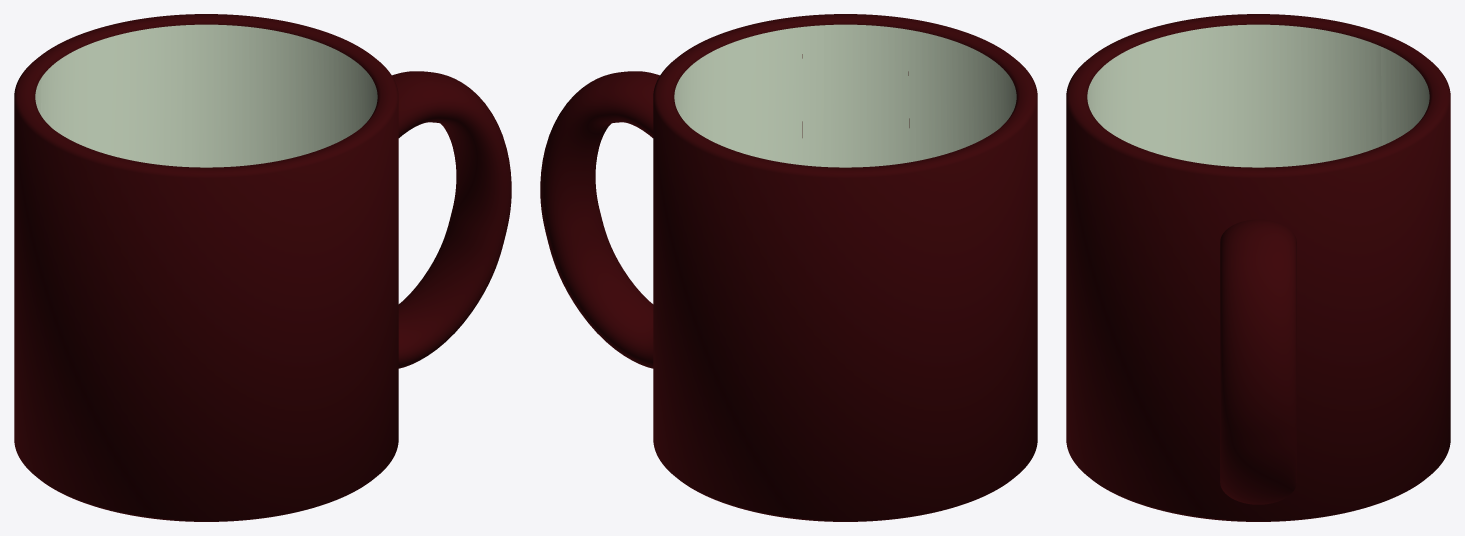
Rendered from mug.obj.
3 views of the same model, side by side, from view 1: azimuth 30°, elevation 25°; view 2: azimuth 150°, elevation 25°; view 3: azimuth 270°, elevation 25° (orthographic).
Parts seen in each view (by area): view 1: Cylinder_Cylinder.001, NurbsCircle; view 2: Cylinder_Cylinder.001, NurbsCircle; view 3: Cylinder_Cylinder.001, NurbsCircle.
Part boxes in pixels (<box>): Cylinder_Cylinder.001: <box>14,14,398,521</box>; NurbsCircle: <box>392,71,511,368</box>; Cylinder_Cylinder.001: <box>653,14,1037,521</box>; NurbsCircle: <box>540,71,659,368</box>; Cylinder_Cylinder.001: <box>1066,14,1450,521</box>; NurbsCircle: <box>1220,219,1296,504</box>.
Bounding box in the file's own units: 2.79 × 2 × 2.
